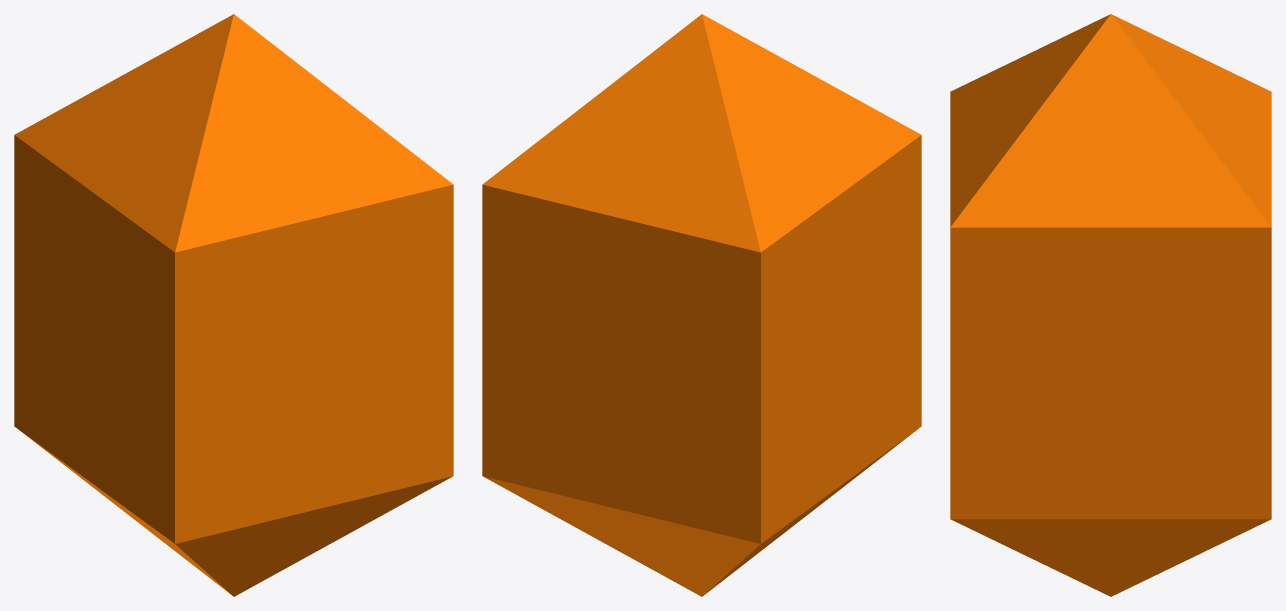
Rendered from cuboRaro.obj.
The picture shows the model from 3 angles, left to right: view 1: azimuth 30°, elevation 25°; view 2: azimuth 150°, elevation 25°; view 3: azimuth 270°, elevation 25°; orthographic projection.
Bounding box in the file's own units: 2 × 4 × 2.
